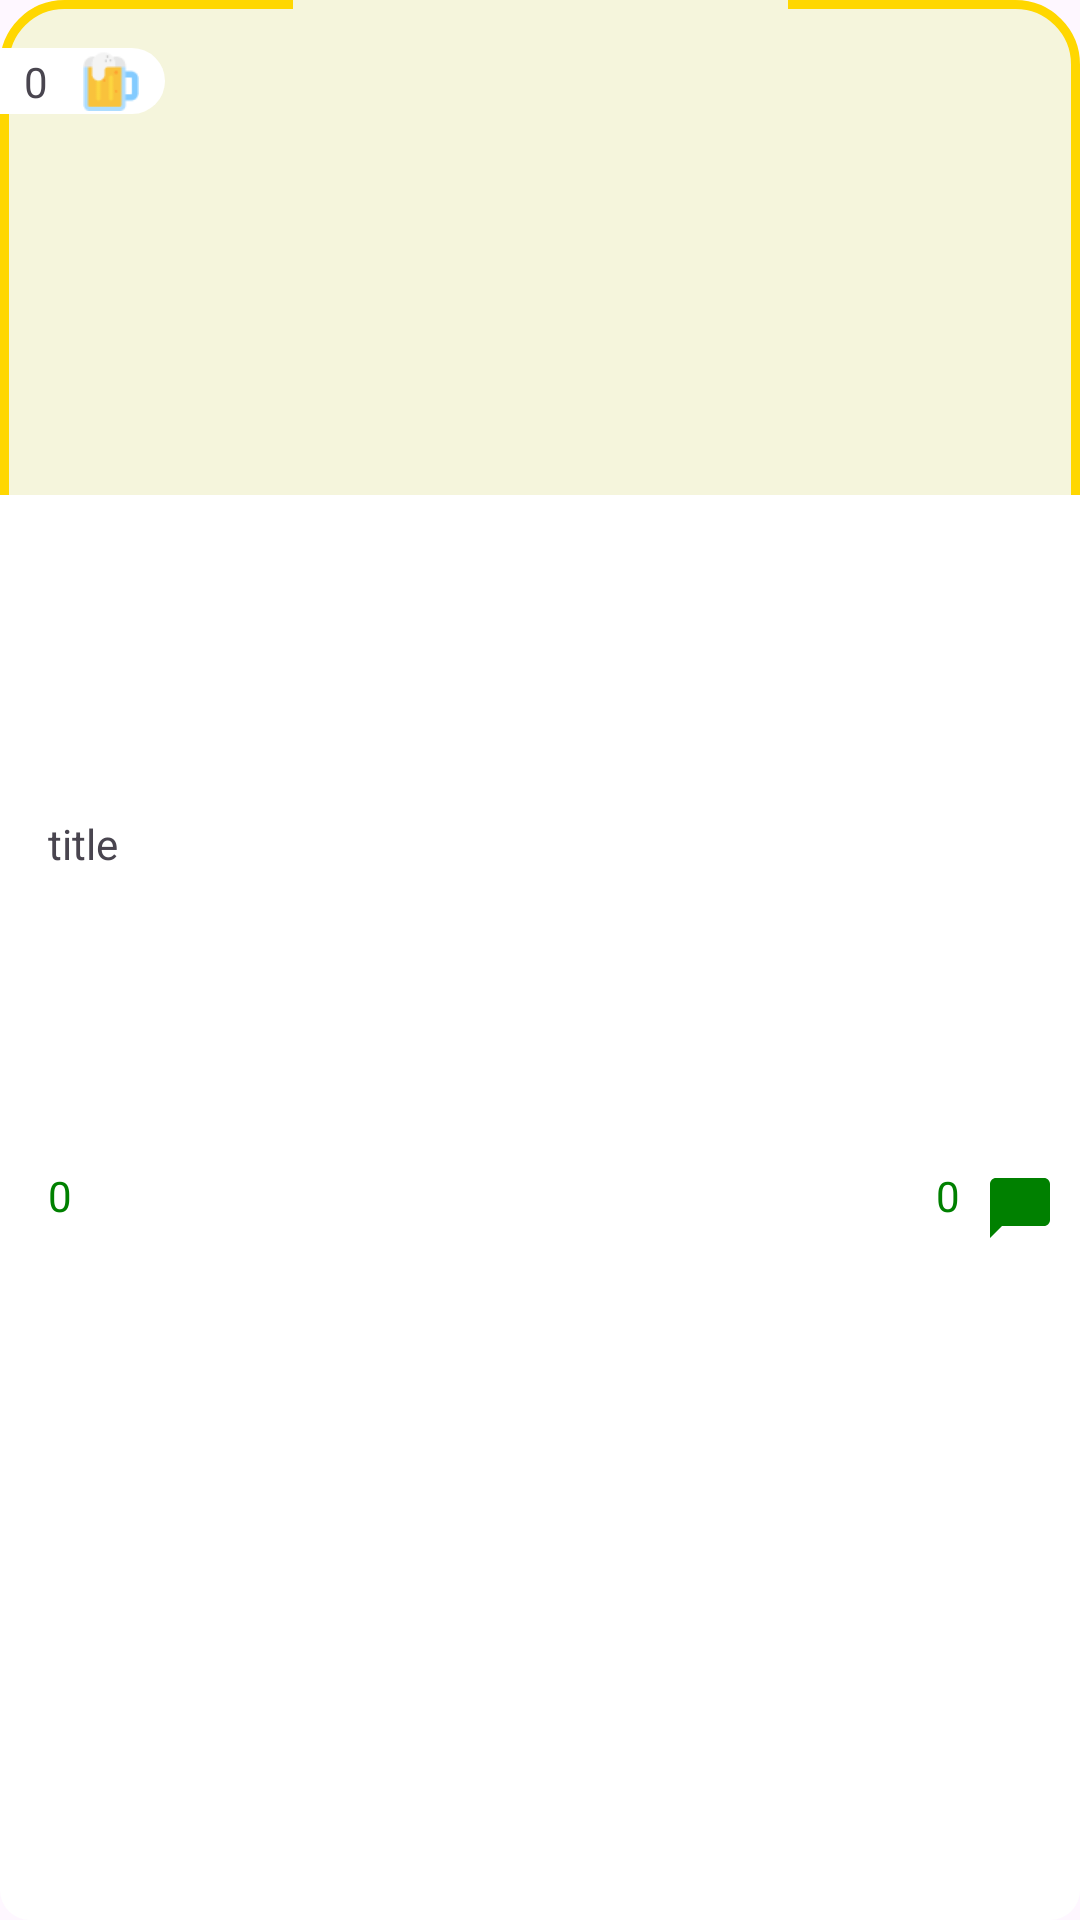

Icon bounding boxes for this 1080×1920 phone screenshot, format BBox(x1, y1, x2, y2):
beer: BBox(83, 55, 139, 111)
review: BBox(990, 1178, 1050, 1238)
